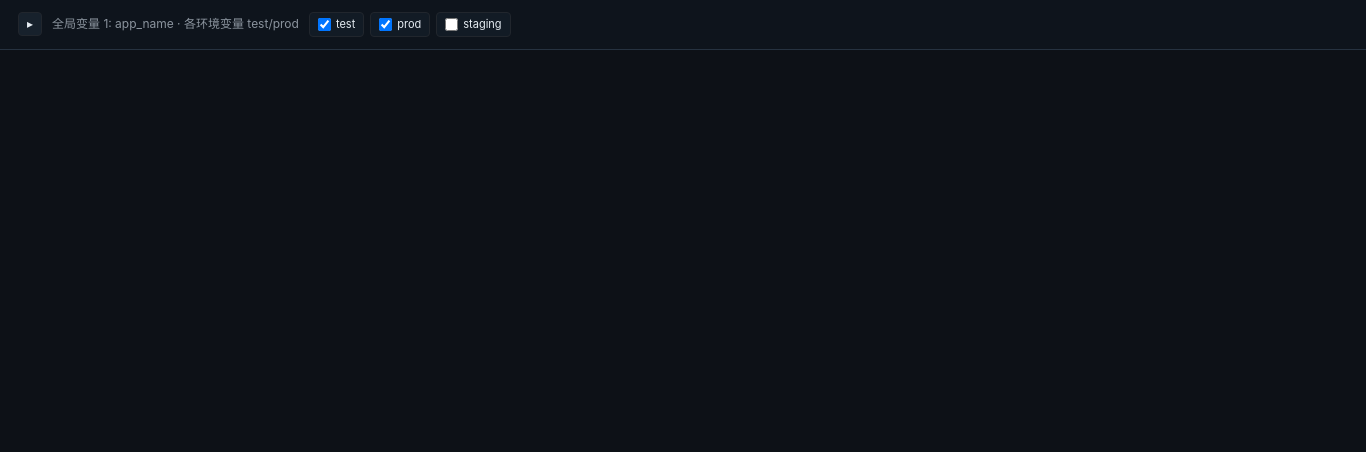
Test: PipelineEnvMatrix › shows delete actions for custom variables and run groups
Click the button with test id "env-matrix-toggle": (30, 24) [18,12,42,36]
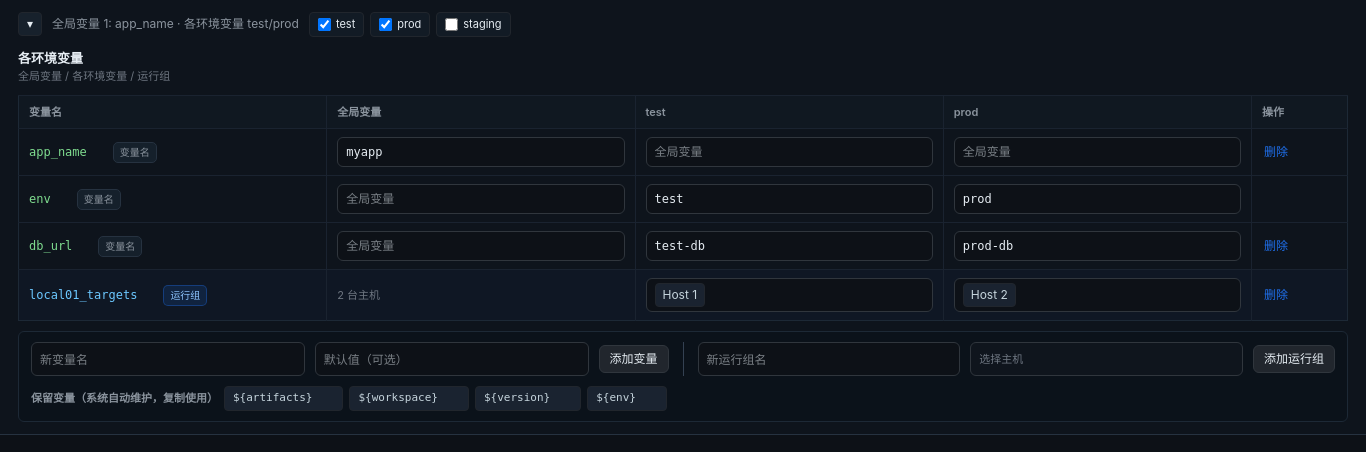
Now the column heading "操作" is shown, box [1252,95,1348,128]
Now the button with test id "delete-var-app_name" is shown, box [1262,146,1290,158]
Now the button with test id "delete-role-local01_targets" is shown, box [1262,289,1290,301]
